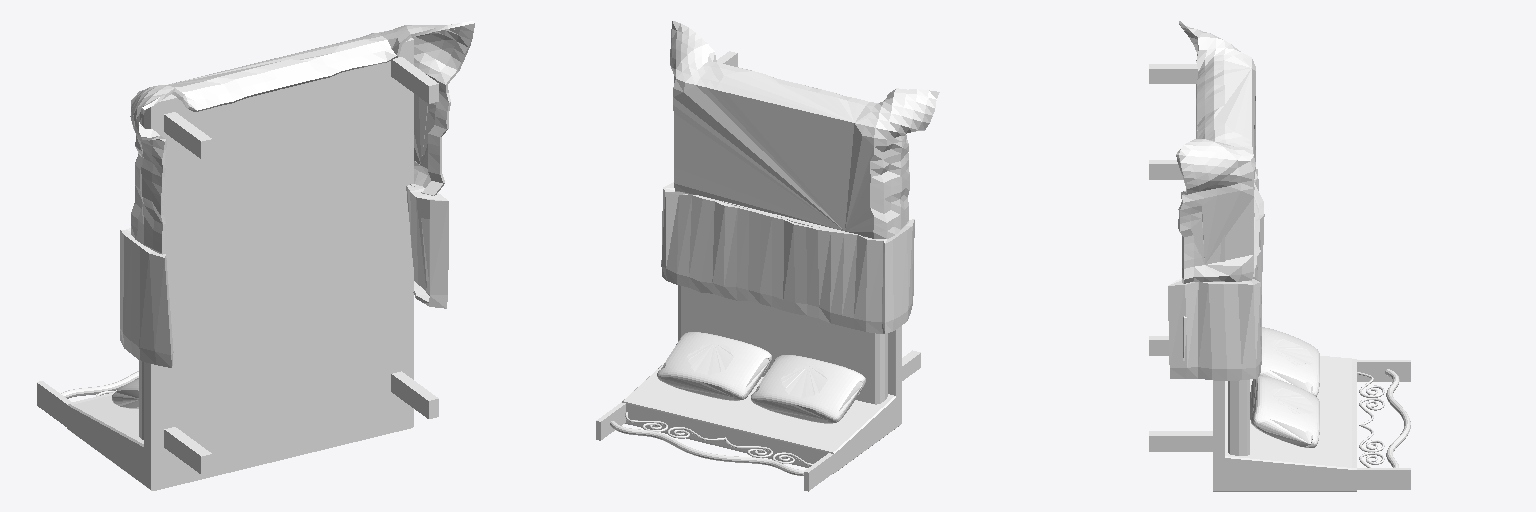
robot.urdf — bed.urdf:
<robot name="bed.urdf">
  <link name="baseLink">
    <inertial>
      <origin rpy="0 0 0" xyz="0 0 0"/>
       <mass value="0.0"/>
       <inertia ixx="0" ixy="0" ixz="0" iyy="0" iyz="0" izz="0"/>
    </inertial>
    <visual>
      <origin rpy="0 0 0" xyz="0 0 0"/>
      <geometry>
        <mesh filename="bed2.obj" scale="0.12 0.12 0.12"/>
      </geometry>
      <material name="white">
       <color rgba="1 1 1 1"/>
     </material>
    </visual>
    <collision>
      <origin rpy="0 0 0" xyz="0 0 0"/>
      <geometry>
        <mesh filename="bed2.obj" scale="0.12 0.12 0.12"/>
      </geometry>
    </collision>
  </link>
</robot>

--- Facts derived from the render (not from the file) ---
3 views of the same robot in one strip: view 1: azimuth 30°, elevation 25°; view 2: azimuth 150°, elevation 25°; view 3: azimuth 270°, elevation 25° (orthographic).
Robot: bed.urdf — 1 links, 0 joints (none); root link baseLink; default pose: every joint at zero.
Visible links, largest first — view 1: baseLink; view 2: baseLink; view 3: baseLink.
Link boxes in pixels (x1,y1,x2,y2): baseLink: (37, 21, 474, 490); baseLink: (596, 21, 939, 491); baseLink: (1149, 21, 1410, 491).
Bounding box of the posed robot: 1.68 × 1.33 × 1.99 m (x, y, z).
Meshes: 1 distinct files referenced, 1 mesh visuals loaded (1 OBJ).